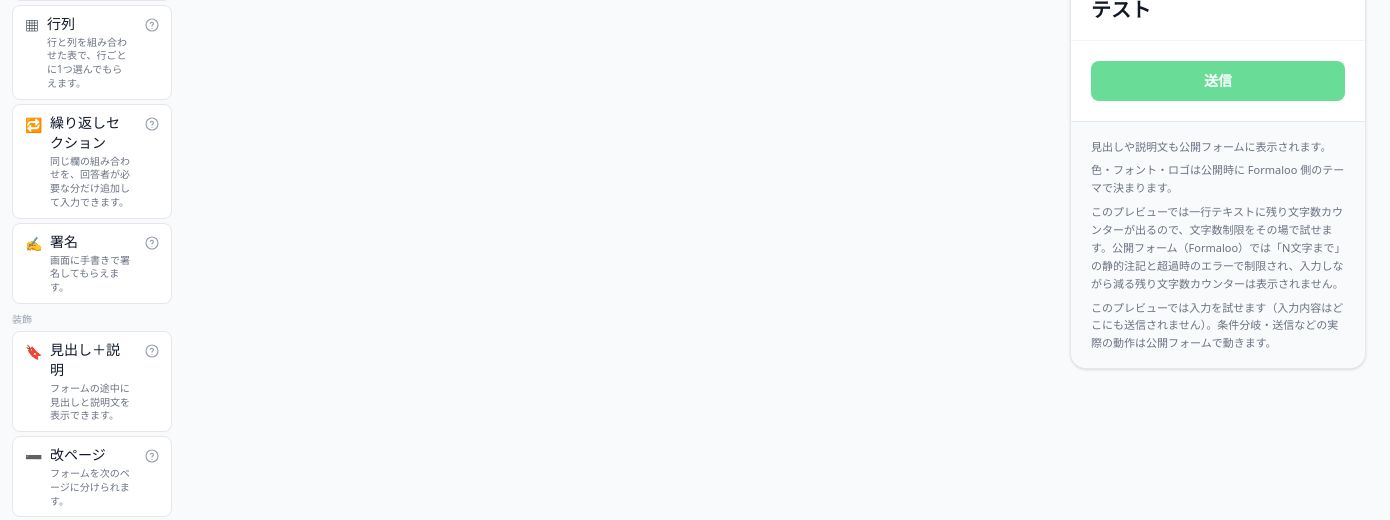
FormBuilder — 入力項目の補足説明 (field-help-charlimit T-A3) › section の設定は従来の「説明文」(config.text) のみで「補足説明」欄は出さない (別物)
The width and height of the screenshot is (1390, 520).
(page scrolled)
Click the button with aria-label "見出し＋説明を追加" at (92, 381), box top-left (12, 331), bottom-right (172, 432)
(page scrolled)
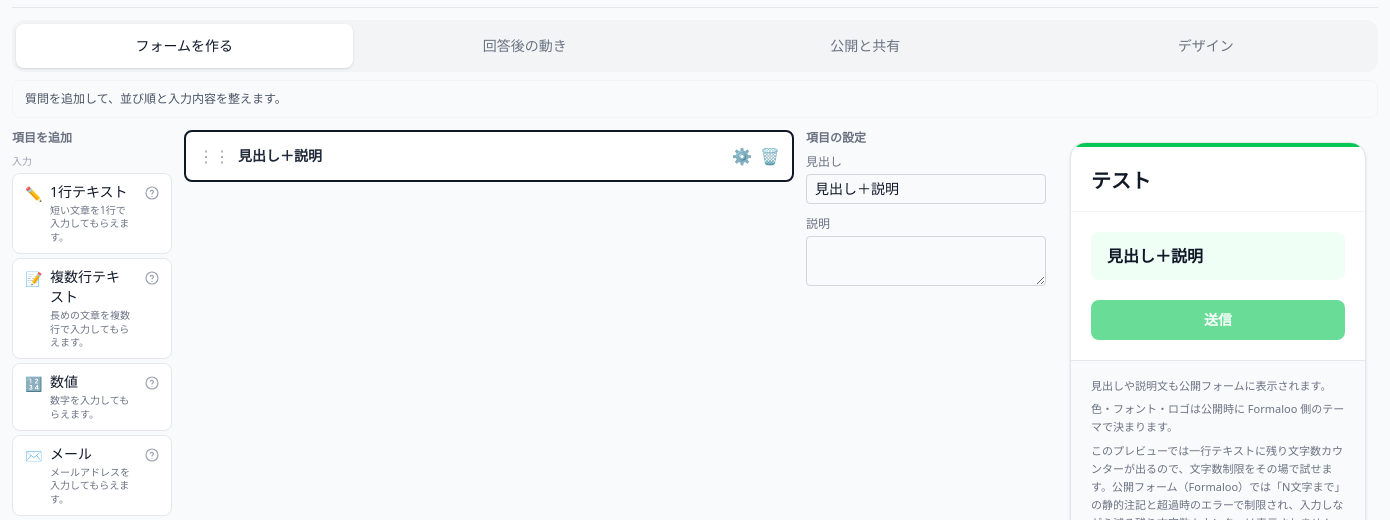
Now the text box named "説明文" is shown, box top-left (806, 236), bottom-right (1046, 286)
